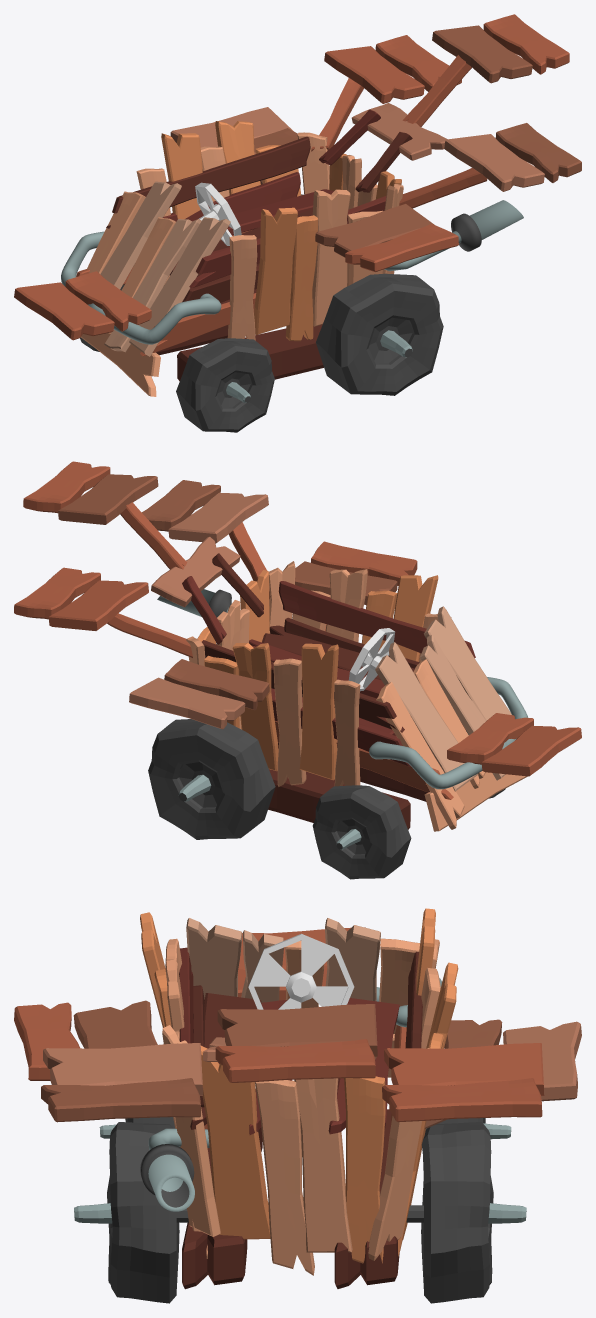
File: Gokart.fbx
3 views of the same model, one above another, from view 1: azimuth 30°, elevation 25°; view 2: azimuth 150°, elevation 25°; view 3: azimuth 270°, elevation 25° (orthographic). The views are drawn at different scales.
Parts seen in each view (by area): view 1: KartBody, Cylinder.008, Rad vorne links, P_hinten mitte, P_hinten links, P_hinten rechts, P_links, P_Vorne, Auspuff links, P_rechts, SteeringWeel.002; view 2: KartBody, Cylinder.006, Cylinder.005, P_hinten mitte, P_hinten rechts, P_hinten links, P_rechts, P_Vorne, P_links, SteeringWeel.002, Auspuff links; view 3: KartBody, Cylinder.006, P_hinten mitte, P_hinten rechts, P_hinten links, Cylinder.008, P_links, P_rechts, SteeringWeel.002, Auspuff links, P_Vorne, Cylinder.005.
Boxes of the visible parts, left/top/right/bottom form: KartBody: left=61, top=103, right=447, bottom=396; Cylinder.008: left=316, top=273, right=443, bottom=395; Rad vorne links: left=176, top=338, right=274, bottom=432; P_hinten mitte: left=402, top=14, right=569, bottom=126; P_hinten links: left=399, top=123, right=581, bottom=208; P_hinten rechts: left=311, top=35, right=461, bottom=151; P_links: left=315, top=204, right=458, bottom=271; P_Vorne: left=14, top=271, right=151, bottom=340; Auspuff links: left=384, top=200, right=523, bottom=271; P_rechts: left=170, top=107, right=297, bottom=184; SteeringWeel.002: left=195, top=182, right=241, bottom=245; KartBody: left=151, top=536, right=528, bottom=831; Cylinder.006: left=148, top=719, right=275, bottom=839; Cylinder.005: left=312, top=785, right=411, bottom=879; P_hinten mitte: left=23, top=461, right=187, bottom=569; P_hinten rechts: left=14, top=567, right=192, bottom=657; P_hinten links: left=142, top=480, right=270, bottom=599; P_rechts: left=129, top=659, right=269, bottom=729; P_Vorne: left=447, top=713, right=581, bottom=776; P_links: left=295, top=541, right=417, bottom=631; SteeringWeel.002: left=348, top=628, right=395, bottom=691; Auspuff links: left=157, top=589, right=231, bottom=617; KartBody: left=140, top=908, right=458, bottom=1289; Cylinder.006: left=406, top=1122, right=526, bottom=1303; P_hinten mitte: left=215, top=1004, right=377, bottom=1082; P_hinten rechts: left=382, top=1043, right=544, bottom=1122; P_hinten links: left=41, top=1043, right=202, bottom=1122; Cylinder.008: left=74, top=1122, right=188, bottom=1303; P_links: left=14, top=1000, right=157, bottom=1080; P_rechts: left=425, top=1019, right=581, bottom=1128; SteeringWeel.002: left=248, top=933, right=354, bottom=1009; Auspuff links: left=140, top=1128, right=209, bottom=1211; P_Vorne: left=238, top=927, right=365, bottom=1000; Cylinder.005: left=426, top=1118, right=511, bottom=1139.
Bounding box in the file's own units: 803 × 547 × 415.
